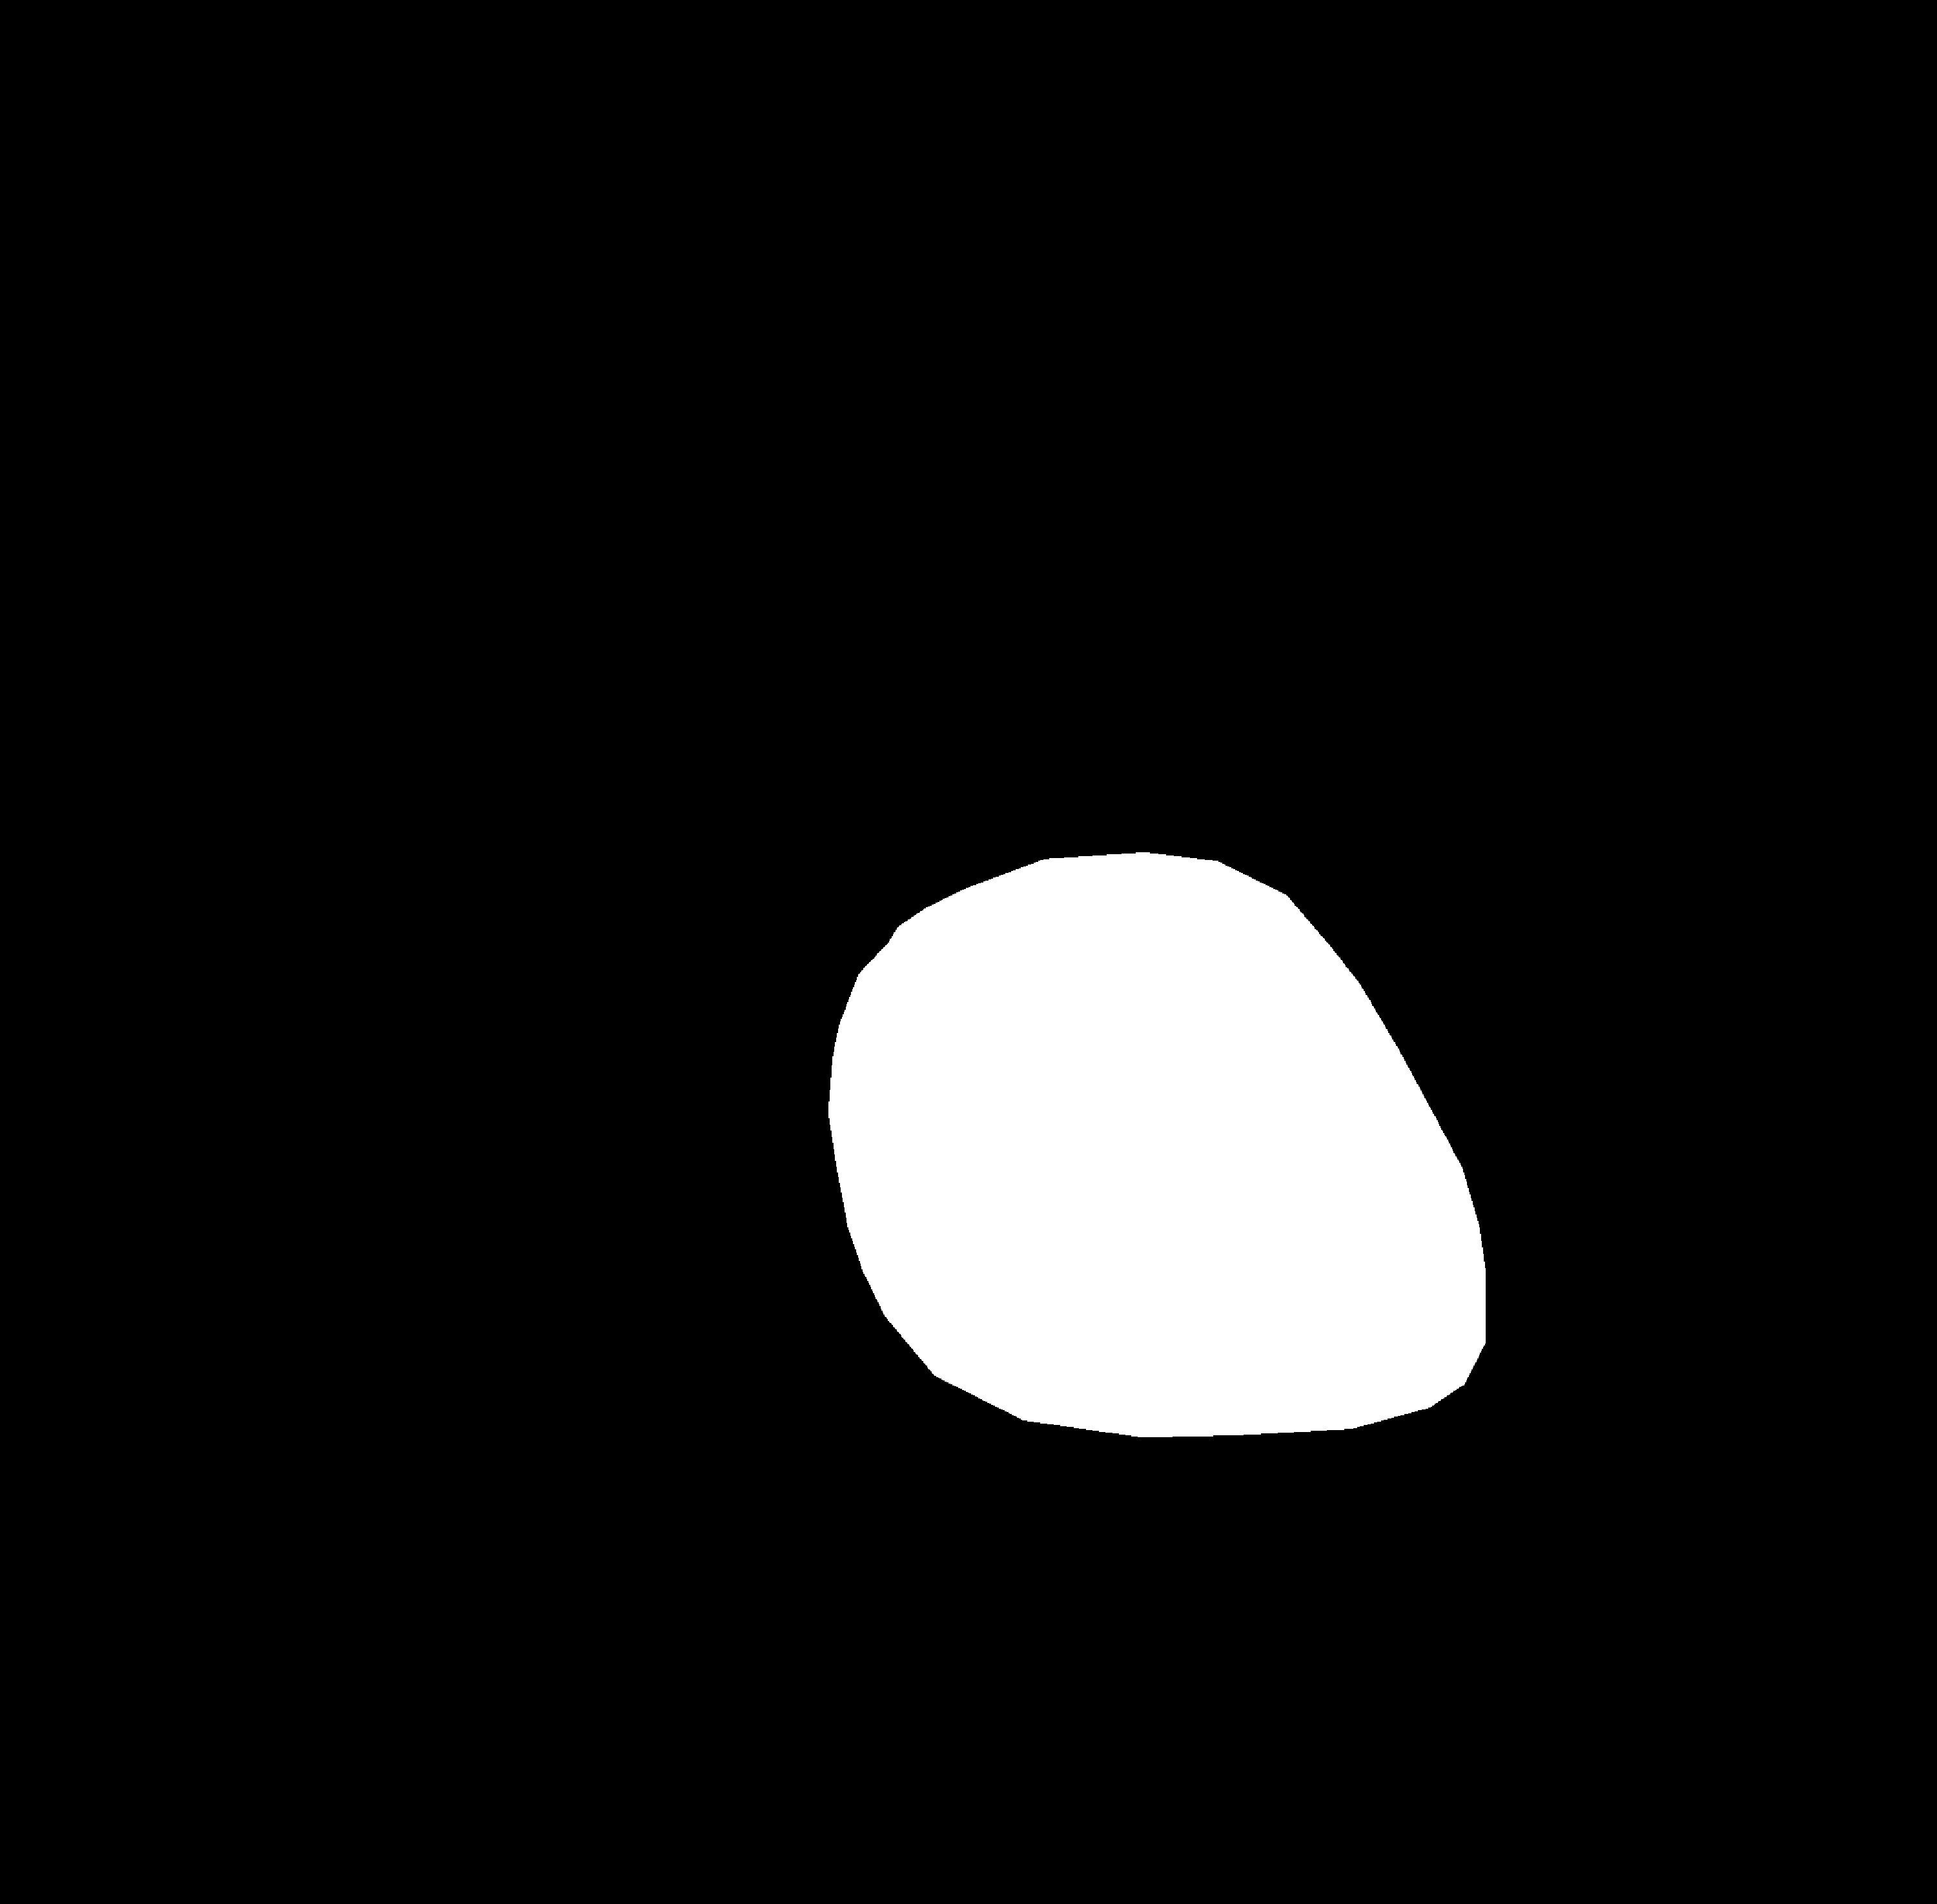heart: (828, 933, 1480, 1470)
left_lung: (316, 255, 948, 1590)
right_lung: (1090, 253, 1712, 1627)
